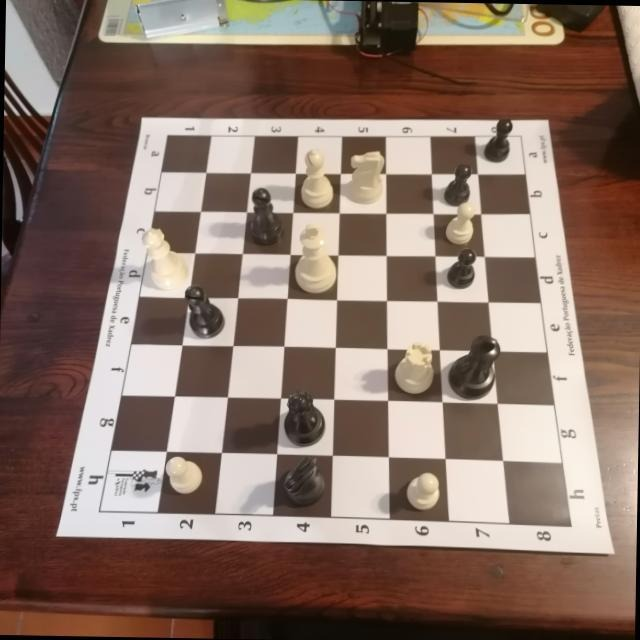black-bishop: (182, 283, 226, 340), (249, 185, 287, 246)
black-king: (446, 332, 501, 400)
black-knight: (282, 452, 326, 507)
black-pawn: (446, 246, 478, 290), (483, 117, 513, 163), (443, 162, 473, 206)
black-queen: (281, 388, 327, 447)
white-bishop: (300, 146, 336, 209)
white-king: (293, 221, 338, 295)
white-knight: (347, 148, 384, 205)
white-pawn: (164, 453, 204, 494), (404, 471, 440, 512), (444, 200, 476, 246)
white-queen: (138, 226, 190, 291)
white-rook: (393, 339, 434, 394)
